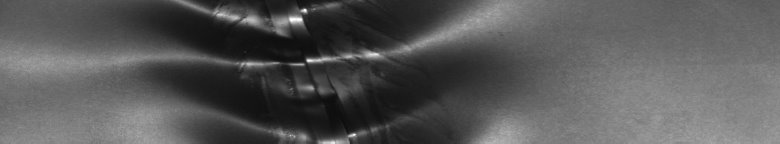ke: (124, 4, 450, 136)
